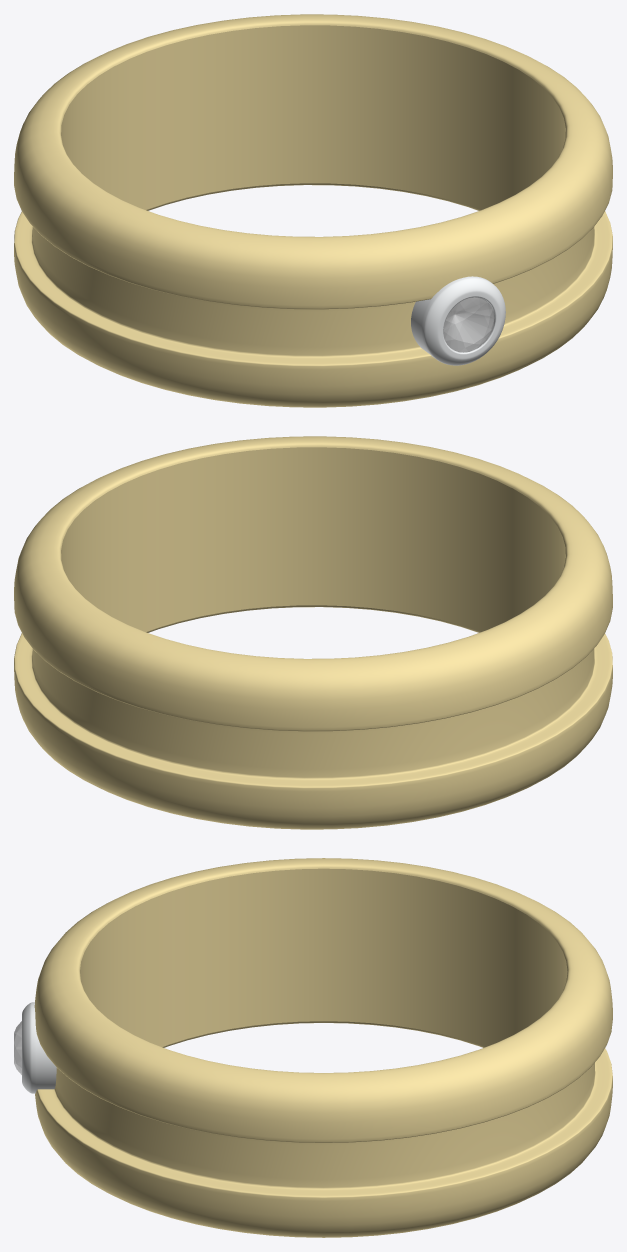
The picture shows the model from 3 angles, top to bottom: view 1: azimuth 30°, elevation 25°; view 2: azimuth 150°, elevation 25°; view 3: azimuth 270°, elevation 25°; orthographic projection. The views are drawn at different scales.
Parts seen in each view (by area): view 1: Base_Metal, Engraving_Metal, Finishing_Metal, Diamond_Metal; view 2: Base_Metal, Engraving_Metal; view 3: Base_Metal, Engraving_Metal, Finishing_Metal.
Boxes of the visible parts, <box> form: Base_Metal: <box>14,14,612,407</box>; Engraving_Metal: <box>61,25,565,210</box>; Finishing_Metal: <box>411,276,505,365</box>; Diamond_Metal: <box>443,297,494,352</box>; Base_Metal: <box>14,436,612,829</box>; Engraving_Metal: <box>61,447,565,632</box>; Base_Metal: <box>34,858,612,1237</box>; Engraving_Metal: <box>80,868,567,1047</box>; Finishing_Metal: <box>22,1002,56,1093</box>.
Size of the model in its own units: 1.65 by 0.4994 by 1.71.
